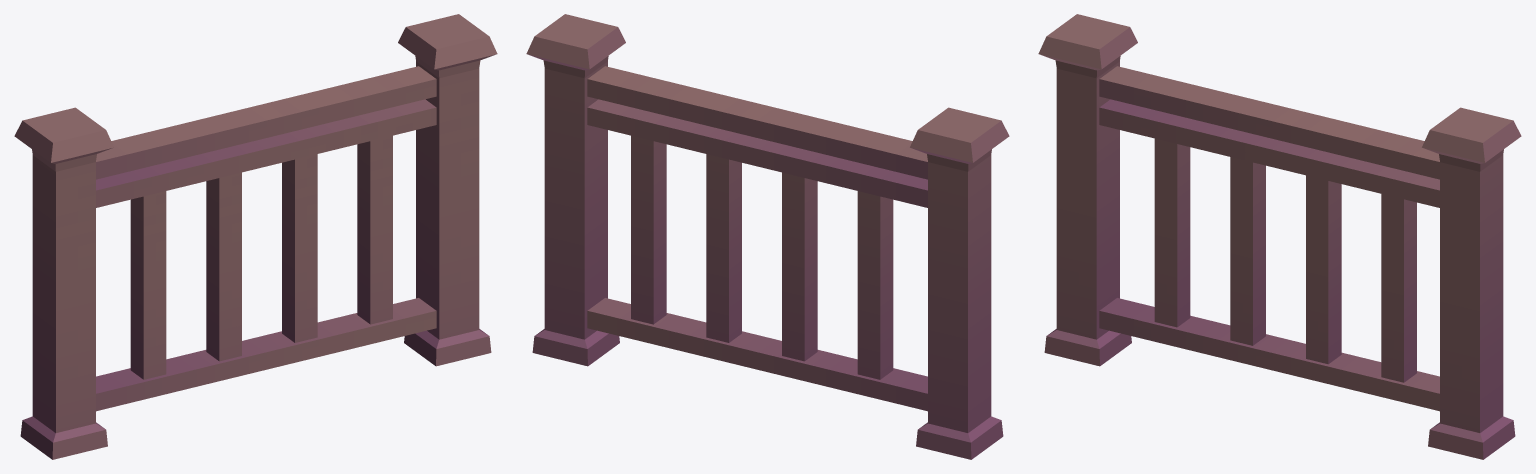
Rendered from fence_top.gltf.
3 renders of one model, left to right at view 1: azimuth 30°, elevation 25°; view 2: azimuth 150°, elevation 25°; view 3: azimuth 330°, elevation 25°, orthographic.
Parts seen in each view (by area): view 1: Object_41; view 2: Object_41; view 3: Object_41.
Boxes of the visible parts, bbox=[...] form: Object_41: bbox=[14, 14, 497, 459]; Object_41: bbox=[526, 14, 1009, 459]; Object_41: bbox=[1038, 14, 1521, 459].
Size of the model in its own units: 4.43 by 3 by 0.6277.
1 material, 1 textured.
